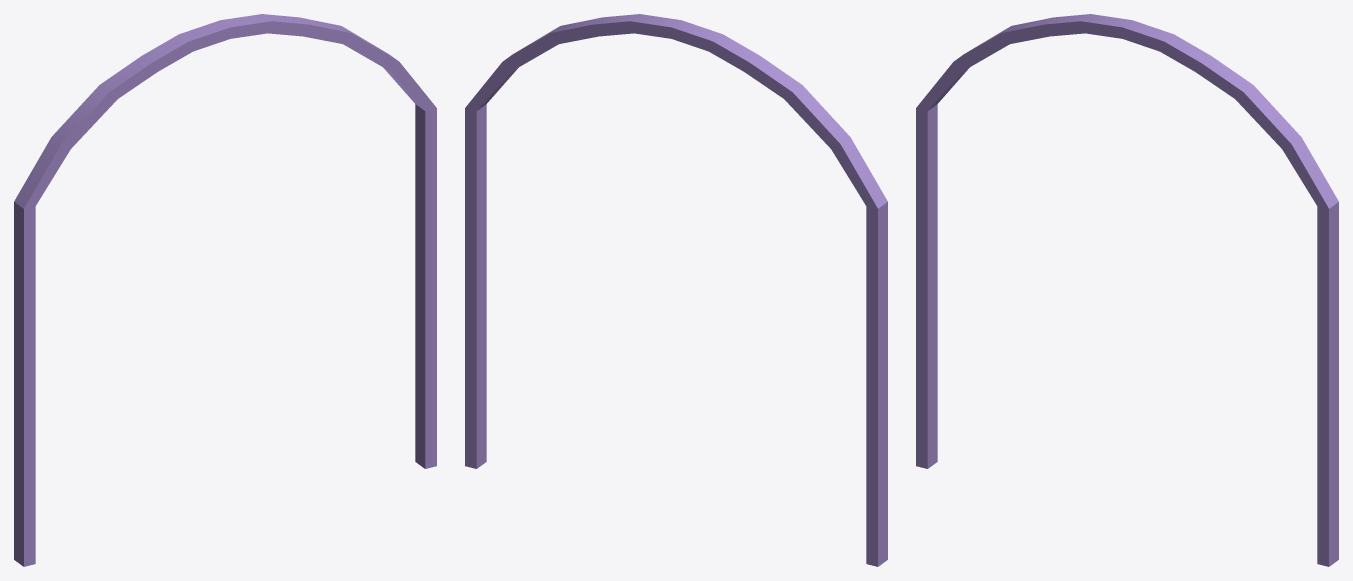
The model's file is gate_a_adapter.fbx.
3 views of the same model, side by side, from view 1: azimuth 30°, elevation 25°; view 2: azimuth 150°, elevation 25°; view 3: azimuth 330°, elevation 25° (orthographic).
Visible parts, largest first — view 1: Plane.124; view 2: Plane.124; view 3: Plane.124.
Boxes of the visible parts, x1=… form: Plane.124: x1=14, y1=14, x2=436, y2=566; Plane.124: x1=465, y1=14, x2=887, y2=566; Plane.124: x1=916, y1=14, x2=1338, y2=566.
Bounding box in the file's own units: 3.62 × 4.1 × 0.15.
